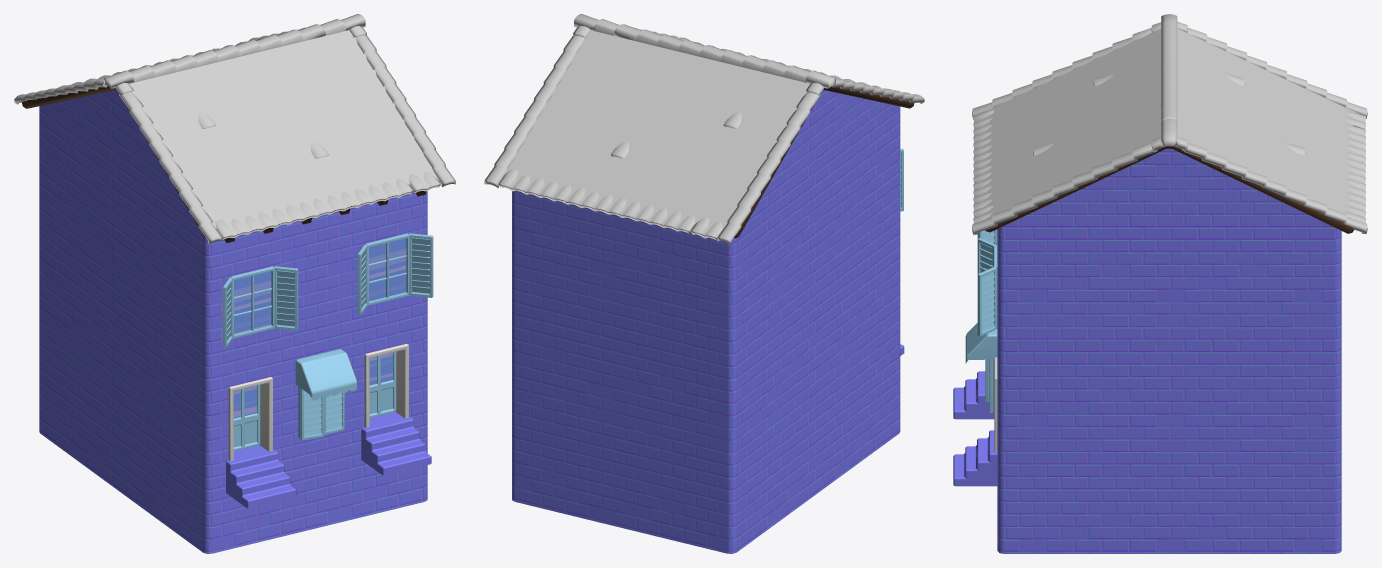
Rendered from Building1Taller_Blue.fbx.
3 views of the same model, side by side, from view 1: azimuth 30°, elevation 25°; view 2: azimuth 150°, elevation 25°; view 3: azimuth 270°, elevation 25° (orthographic).
Visible parts, largest first — view 1: Building1Taller_Blue; view 2: Building1Taller_Blue; view 3: Building1Taller_Blue.
Boxes of the visible parts, bbox=[...] form: Building1Taller_Blue: bbox=[14, 14, 455, 553]; Building1Taller_Blue: bbox=[484, 14, 924, 553]; Building1Taller_Blue: bbox=[953, 14, 1367, 553].
Size of the model in its own units: 868 by 1362 by 1203.
